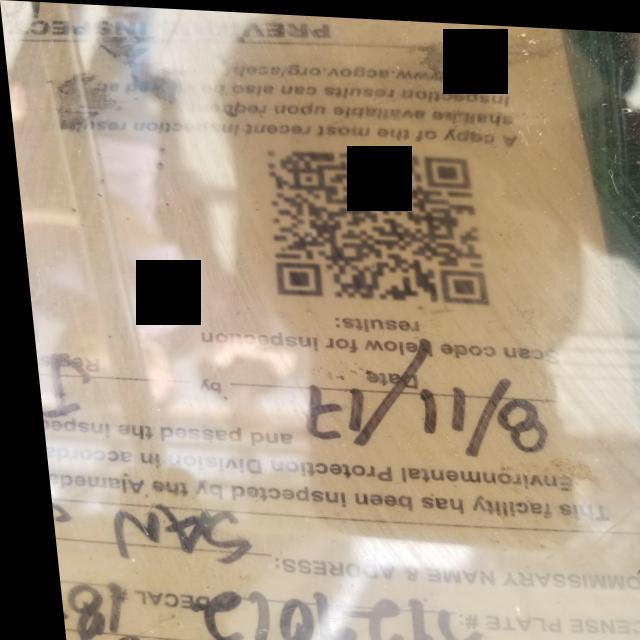QR_CODE: (248, 131, 501, 317)
